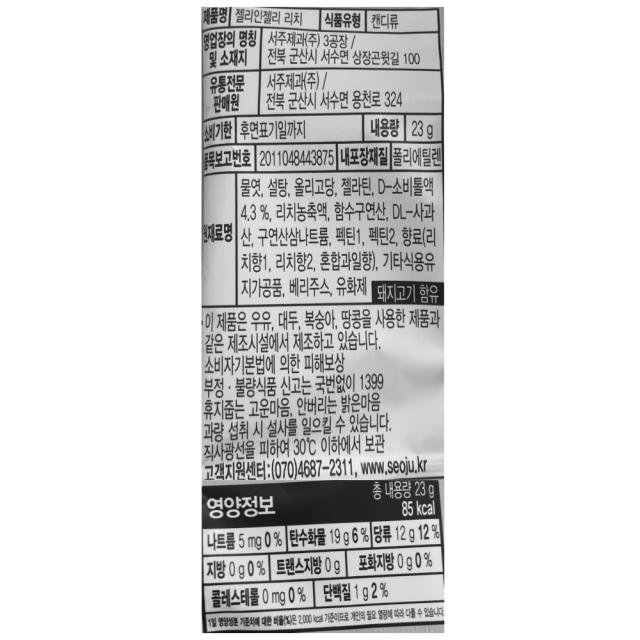Nutrition Label: (181, 475, 469, 640)
